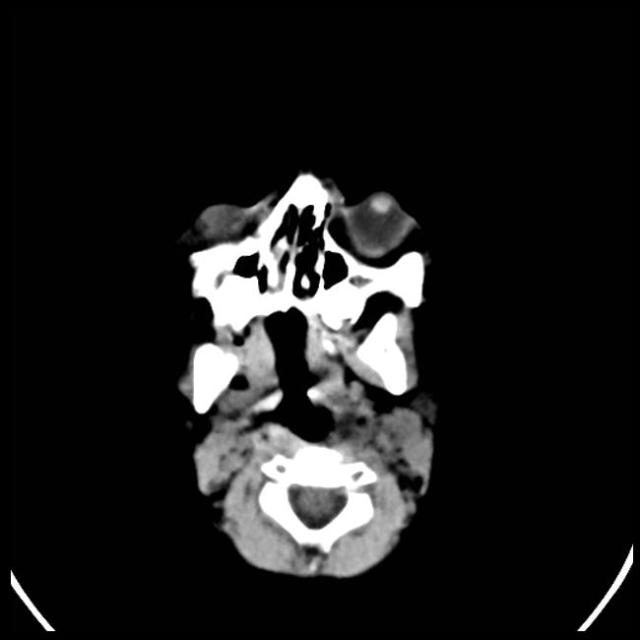lesion: (168, 164, 447, 585)
